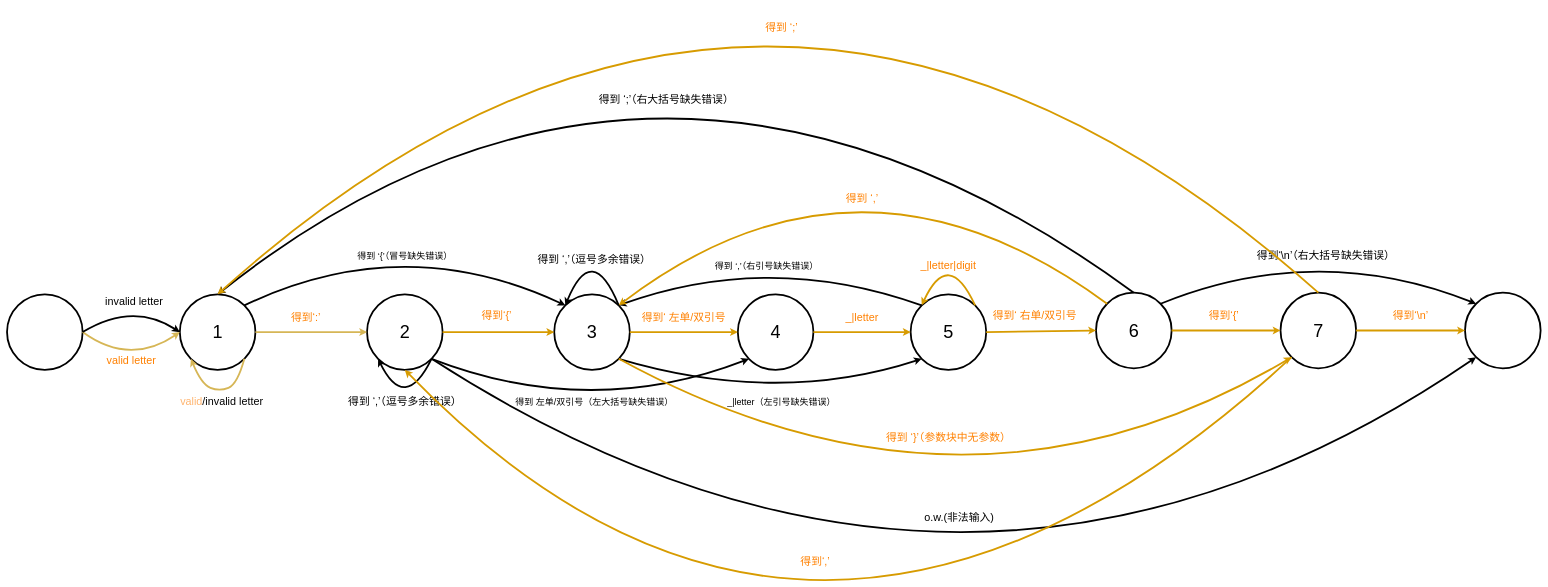
The diagram is 1548 pixels wide and 587 high, and some of its shapes have lost their labels. Each missing label, with the box of its shape:
EXIT: (1464, 292, 1541, 369)
START: (6, 293, 83, 371)
